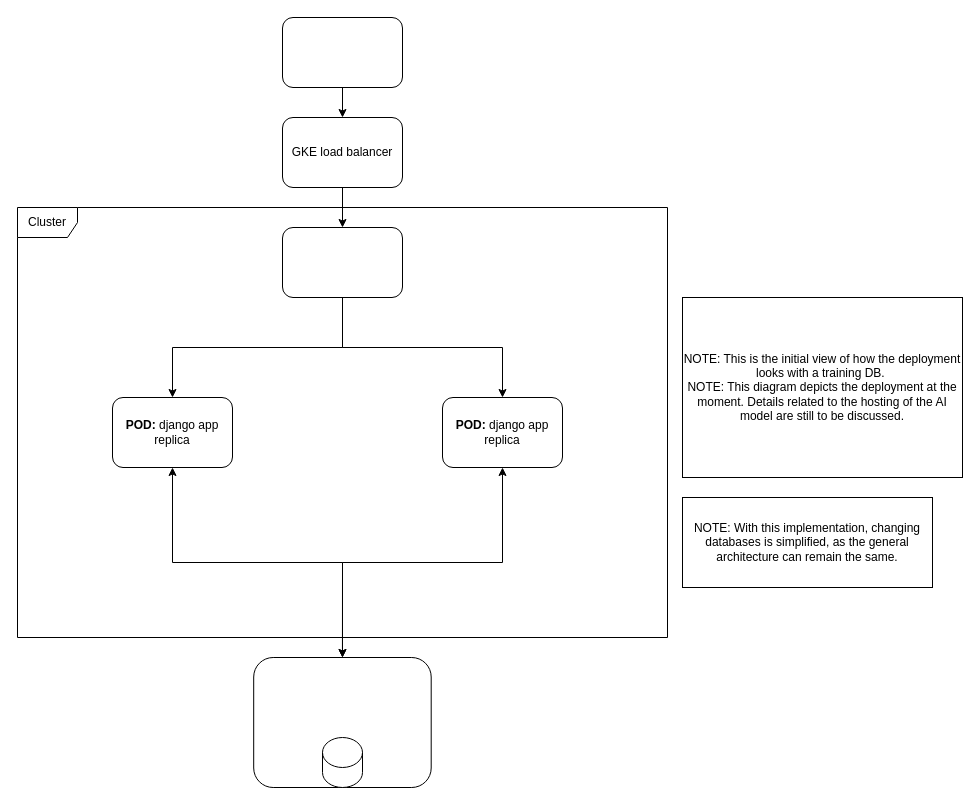
This 980x805 diagram has some shape labels left out. The box of each missing label's shape, as (x1, y1, x2, y2) in pixels:
CLIENTS i.e: browsers: (282, 16, 402, 88)
CloudSQL: postgresql: (253, 656, 431, 788)
ClusterIP service: (282, 226, 402, 298)
